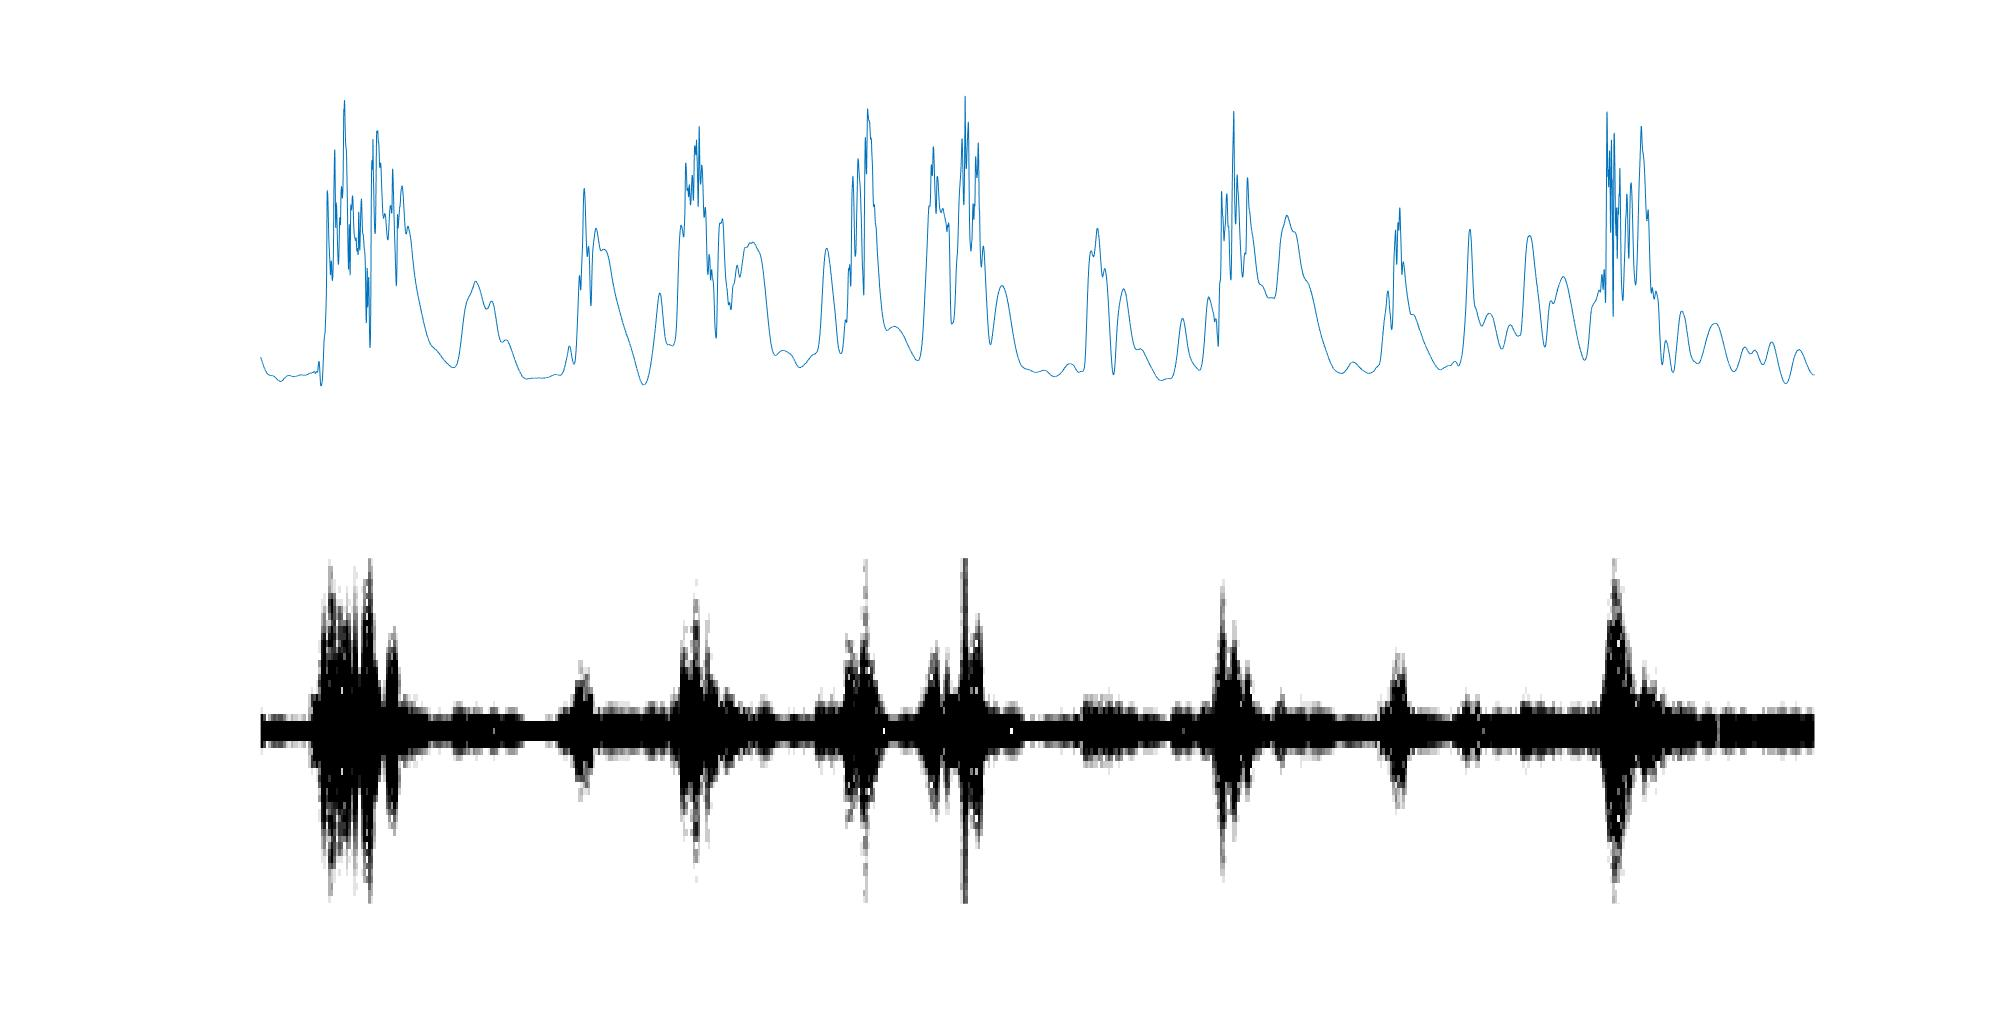spot: (317, 560, 400, 911), (670, 587, 725, 863), (1600, 564, 1637, 895)
